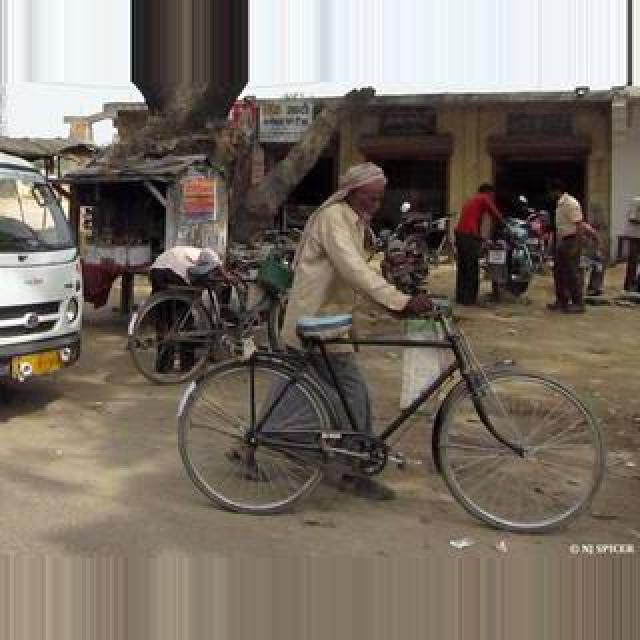MC-Bike: (284, 160, 438, 508), (454, 182, 504, 306), (542, 176, 586, 314)
Person: (174, 292, 596, 526), (128, 246, 294, 386)
Person-Bike: (0, 154, 86, 394)
Truck-Bike: (0, 154, 86, 394)
